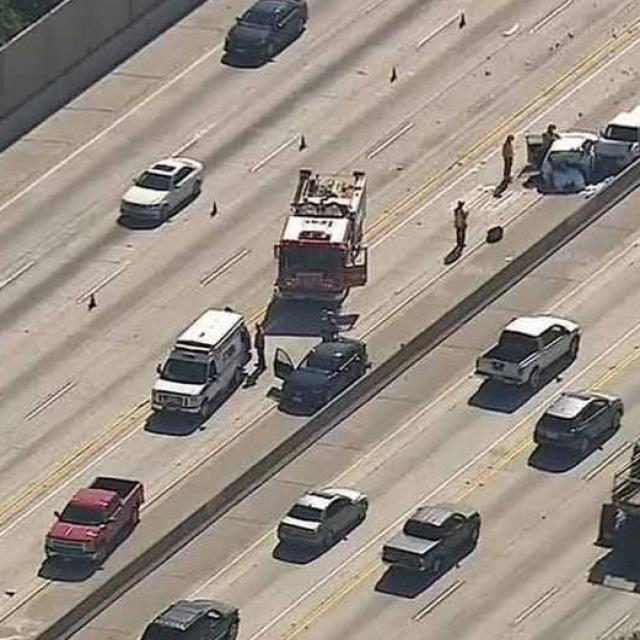traffic_incident: (507, 93, 639, 193)
